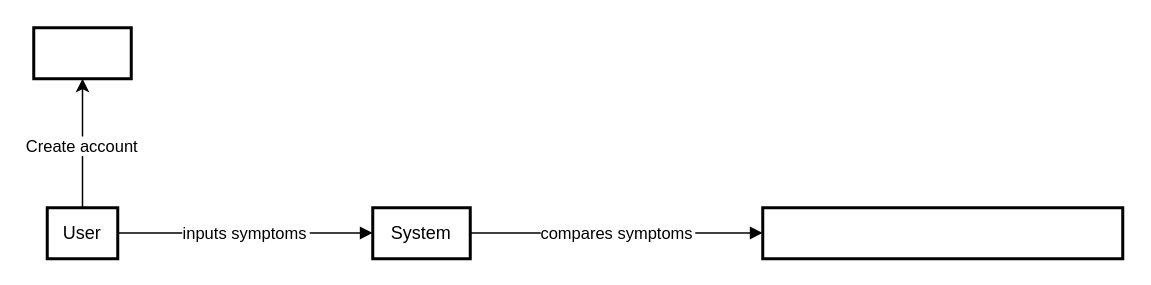
This 1151x285 diagram has some shape labels left out. Here are the shapes that lost their labels. From the top down, the centre of each, then its label:
At pixel 82 53: "Account".
At pixel 942 233: "Disease and Symptom Database".
